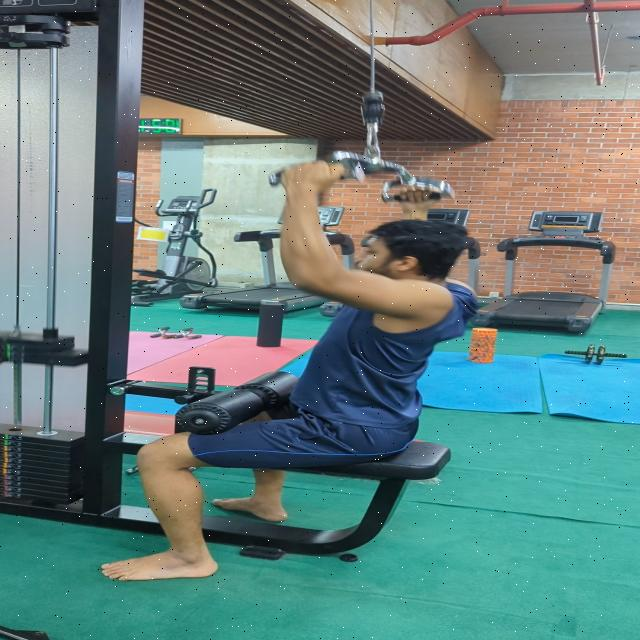Normal_LatPulldown: (83, 155, 483, 593)
